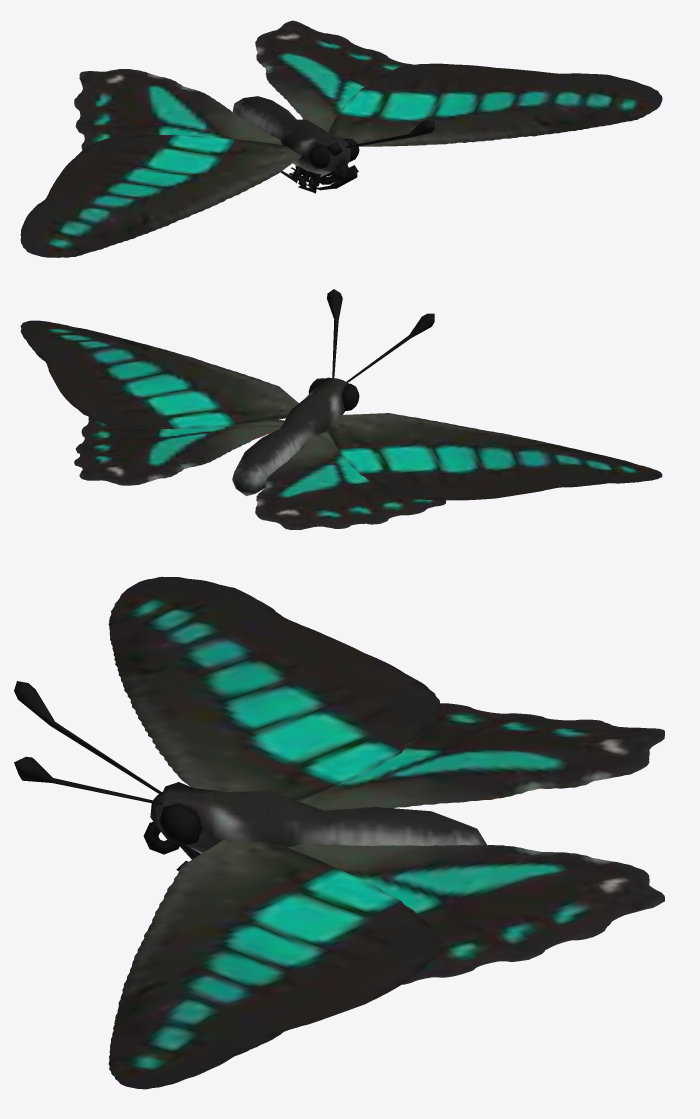
Rendered from common-bluebottle.glb.
The picture shows the model from 3 angles, top to bottom: view 1: azimuth 30°, elevation 25°; view 2: azimuth 150°, elevation 25°; view 3: azimuth 270°, elevation 25°; orthographic projection. The views are drawn at different scales.
Bounding box in the file's own units: 5.45 × 0.8731 × 2.88.
Materials: 1 (1 with a texture image).
